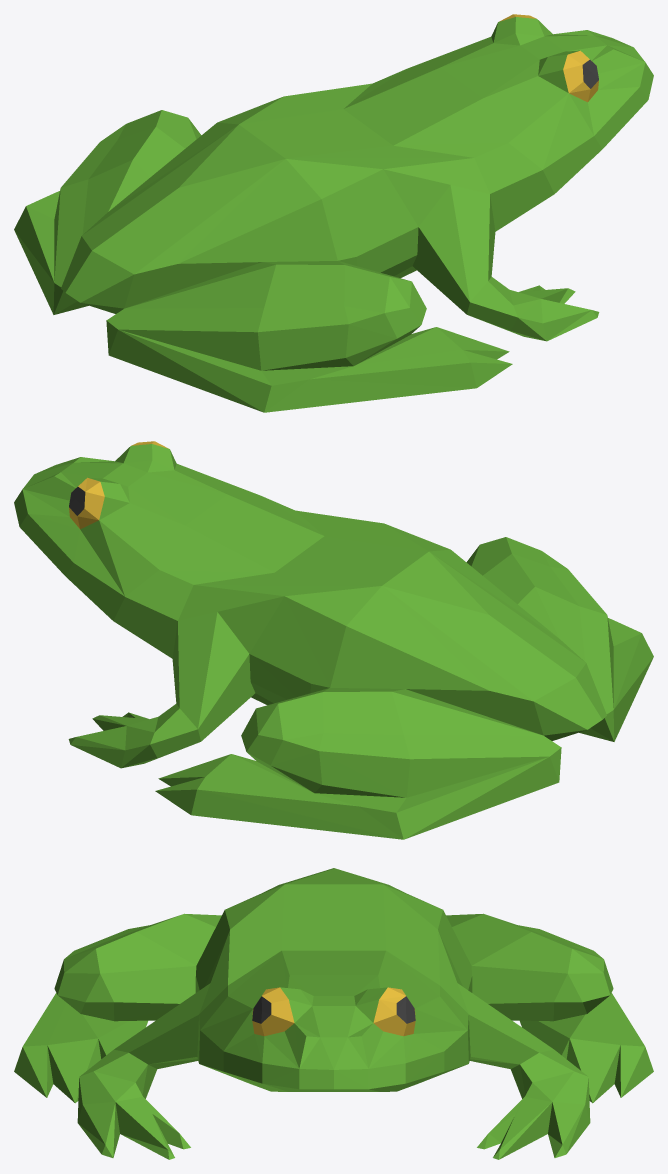
The model's file is 0QZHgL_V-Pj.glb.
The picture shows the model from 3 angles, top to bottom: view 1: azimuth 30°, elevation 25°; view 2: azimuth 150°, elevation 25°; view 3: azimuth 270°, elevation 25°; orthographic projection. The views are drawn at different scales.
Visible parts, largest first — view 1: Frog; view 2: Frog; view 3: Frog.
Boxes of the visible parts, x1,y1,x2,y2 form: Frog: (14,14,653,412); Frog: (14,441,653,839); Frog: (14,868,653,1159).
Size of the model in its own units: 3.22 by 0.9998 by 2.97.
